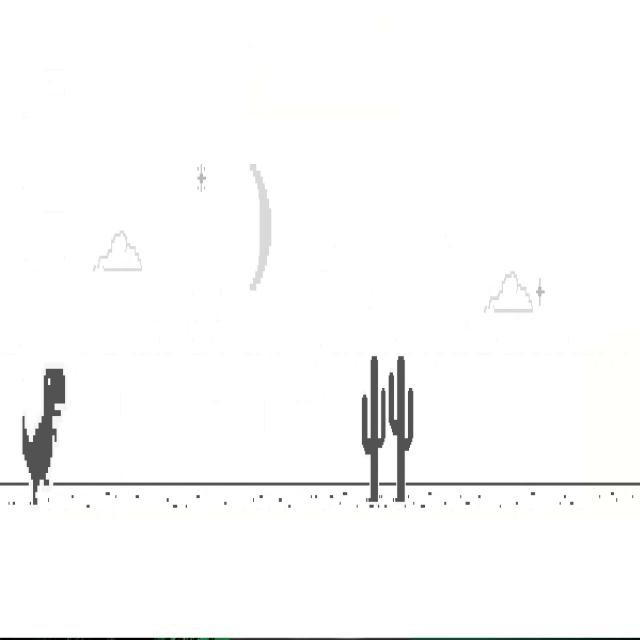cacto: (388, 355, 414, 503), (362, 355, 386, 503)
dino: (22, 366, 65, 506)
